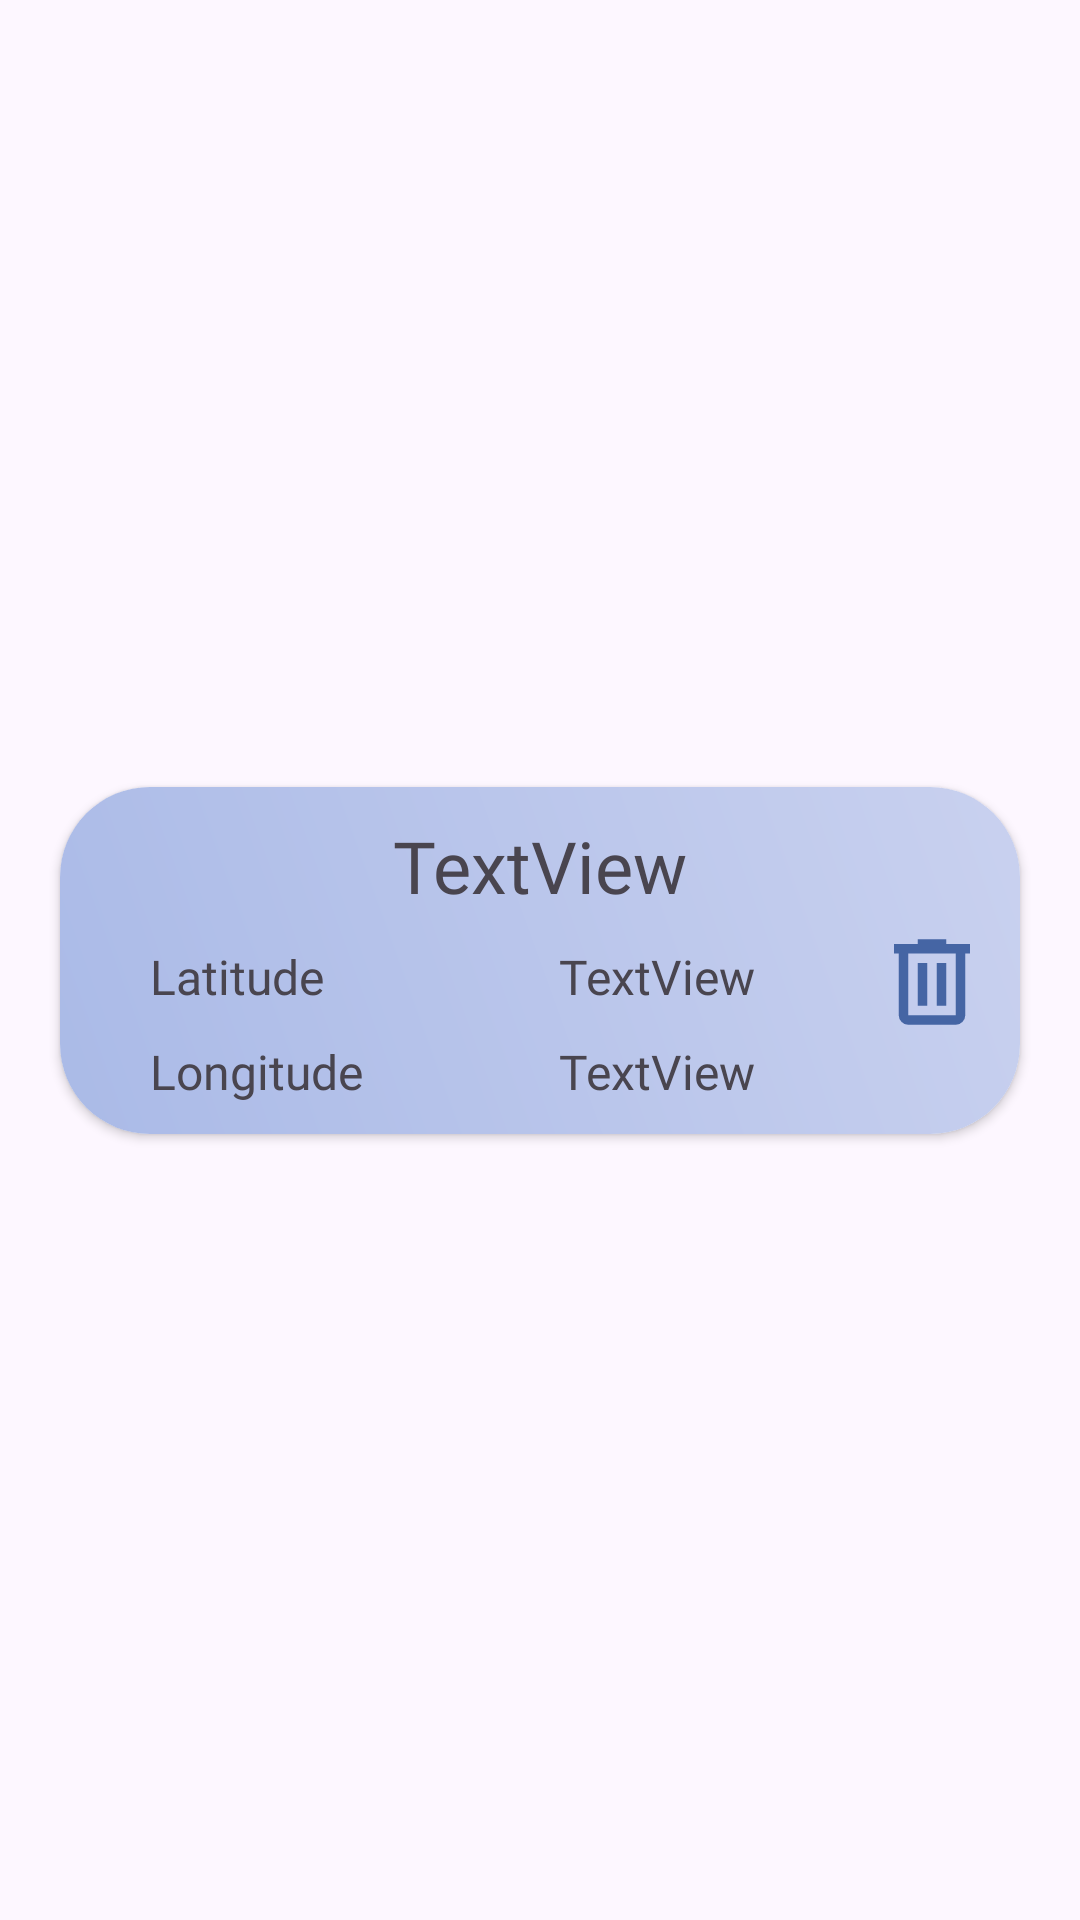

Where icons sit on this 1080*1920 app screen, as (x1, y1, x2, y2):
delete: (894, 939, 970, 1025)
